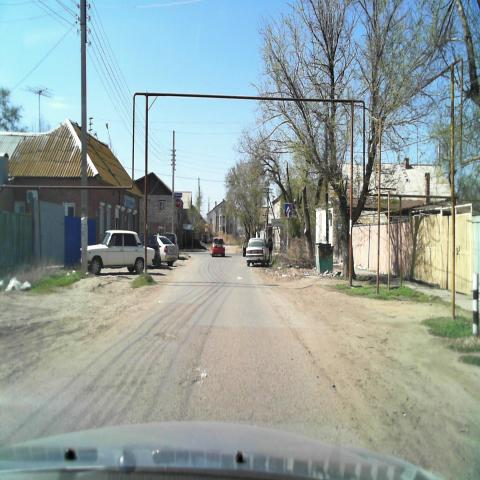5_6: (284, 203, 292, 217)
